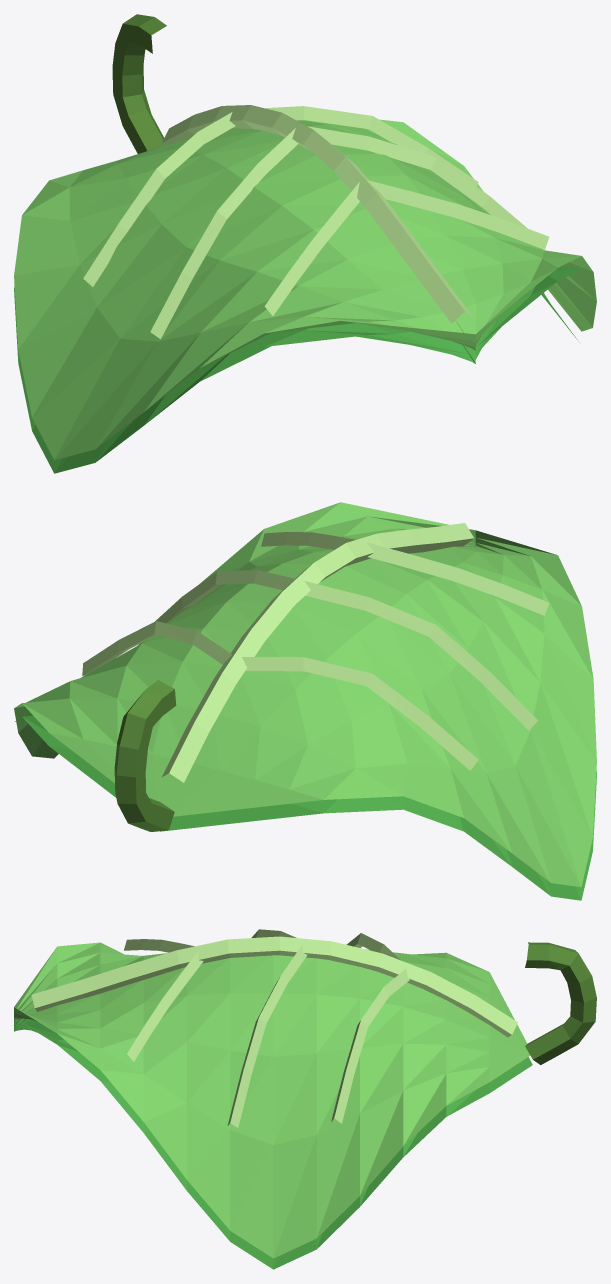
File: leaf-hat.glb
3 views of the same model, one above another, from view 1: azimuth 30°, elevation 25°; view 2: azimuth 150°, elevation 25°; view 3: azimuth 270°, elevation 25° (orthographic). The views are drawn at different scales.
Visible parts, largest first — view 1: leaf-hat; view 2: leaf-hat; view 3: leaf-hat.
Boxes of the visible parts, left/top/right/bottom form: leaf-hat: left=14, top=14, right=596, bottom=473; leaf-hat: left=14, top=502, right=596, bottom=900; leaf-hat: left=14, top=929, right=596, bottom=1269.
Bounding box in the file's own units: 0.164 × 0.0822 × 0.191.
